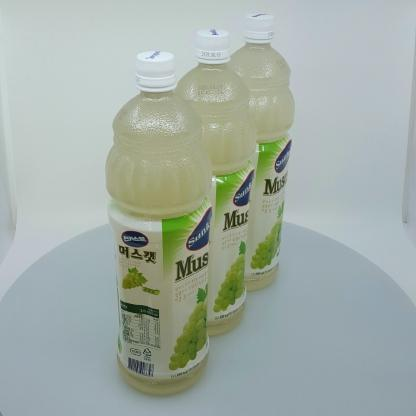-------1-5L: (105, 50, 214, 397), (170, 29, 256, 338), (221, 12, 296, 292)
